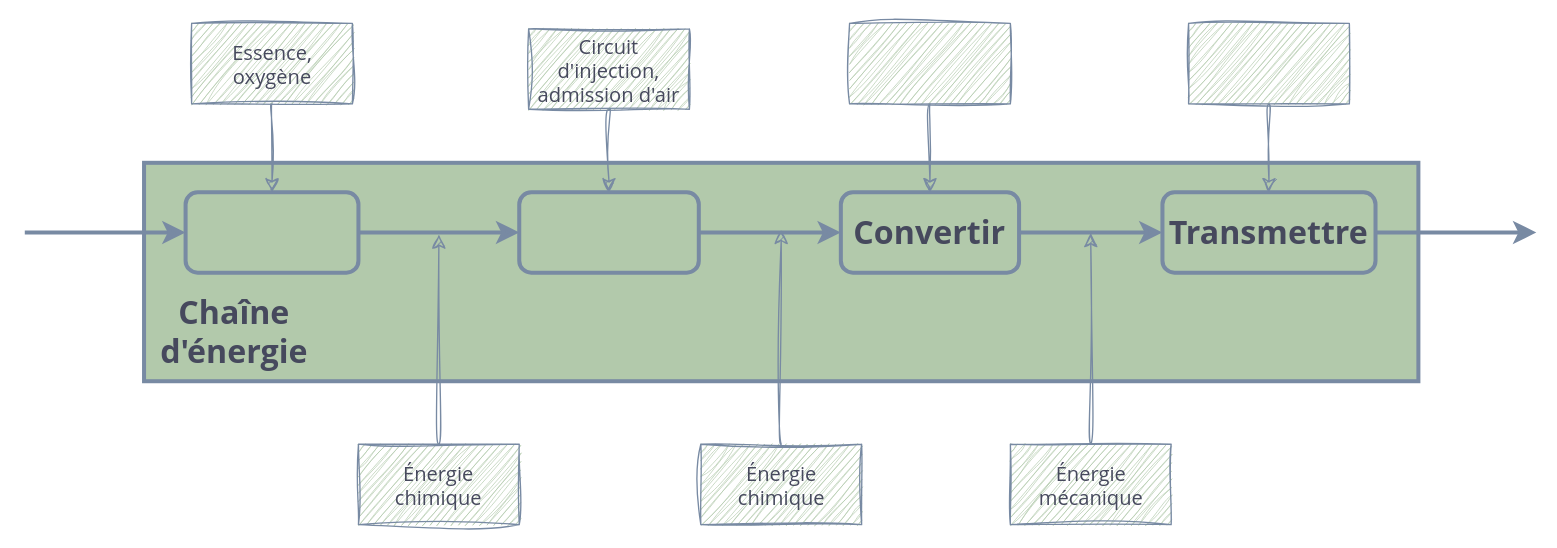
Image size: 1557x548. Some labels were removed from this diagram. Each missing label, with the centre of its shape:
"Alimenter" goes at (271,232).
"Distribuer" goes at (608,232).
"Moteur" goes at (929,63).
"Transmission, roues" goes at (1268,63).
